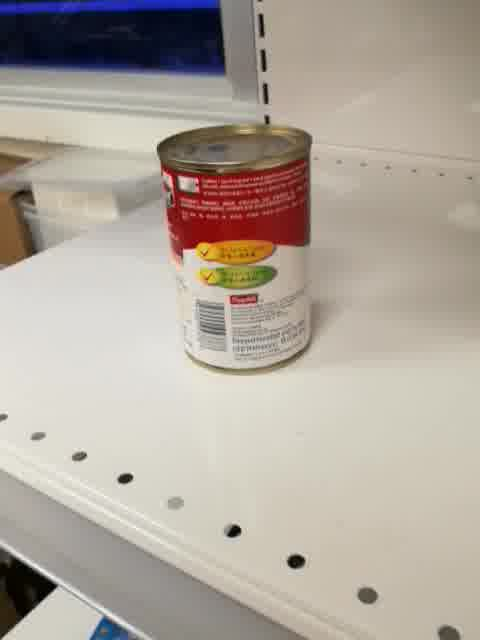tomatosoup: (155, 120, 314, 378)
